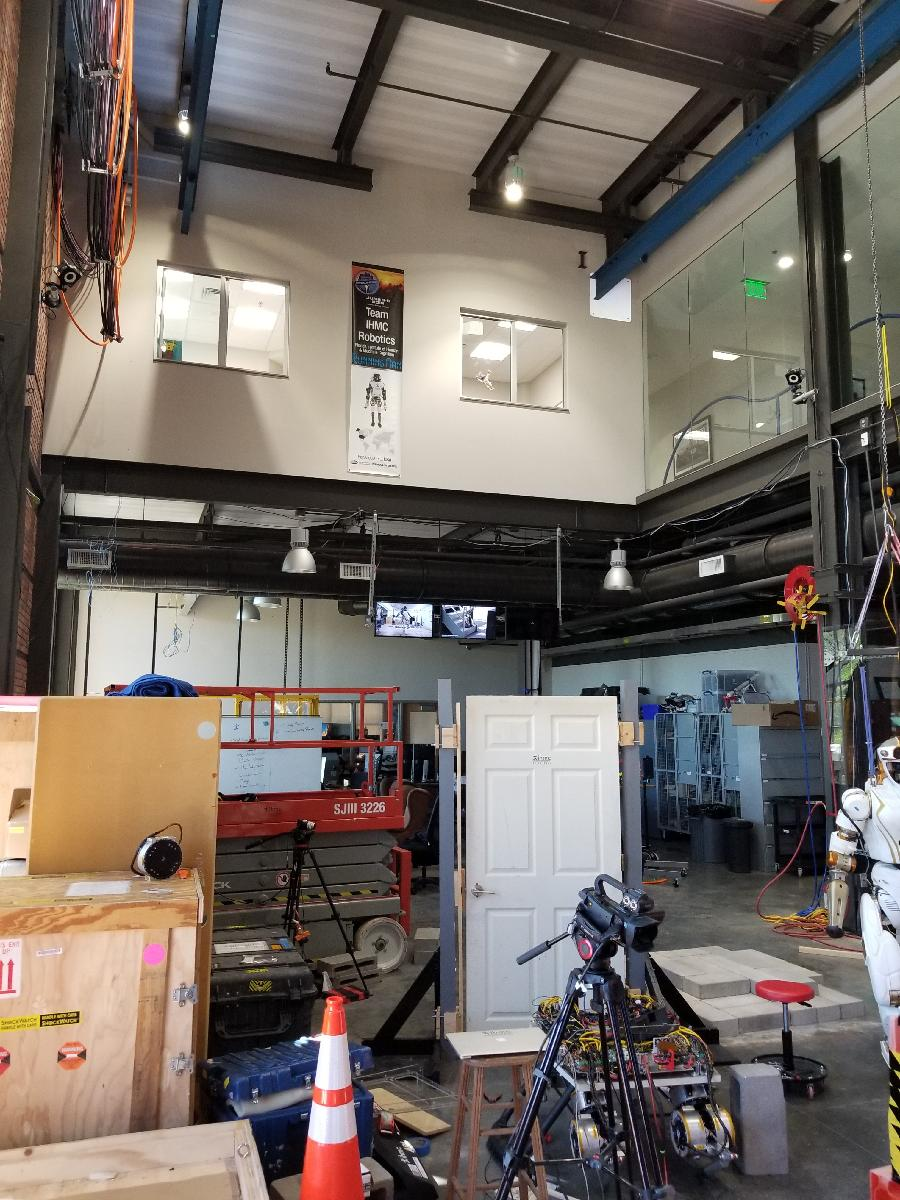door: (462, 691, 627, 1060)
doorHandle: (471, 881, 502, 901)
